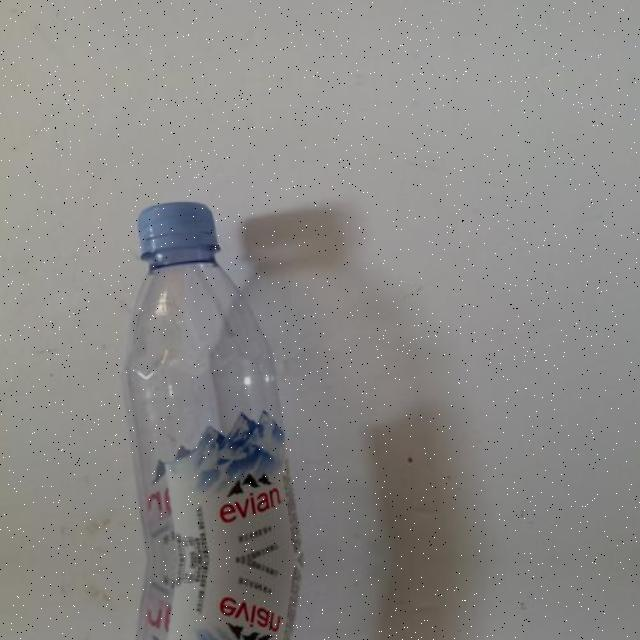Plastic: (45, 180, 369, 560), (45, 559, 369, 640)
